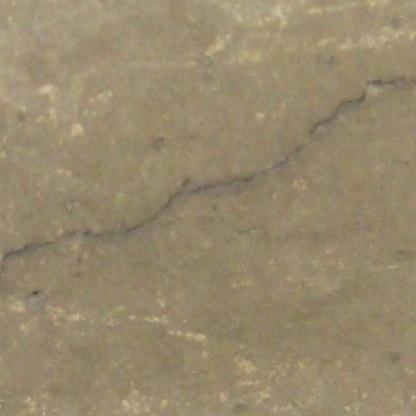Cracks: (0, 189, 188, 301), (190, 138, 311, 199), (311, 75, 407, 136)
